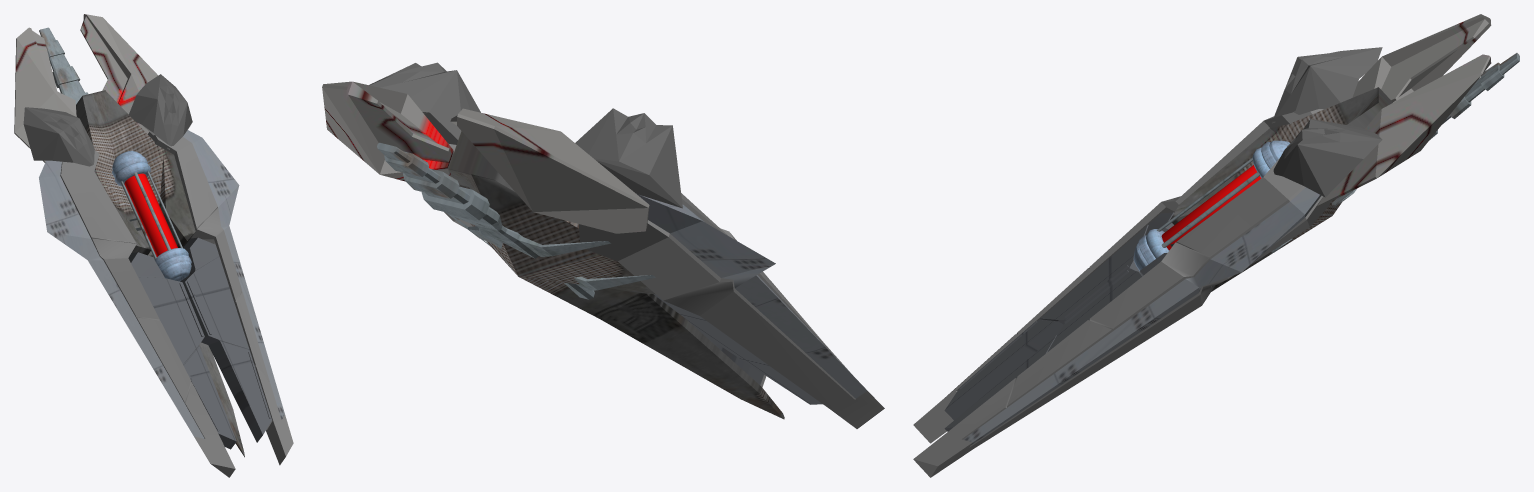
Rendered from wingopen.fbx.
3 views of the same model, side by side, from view 1: azimuth 30°, elevation 25°; view 2: azimuth 150°, elevation 25°; view 3: azimuth 270°, elevation 25° (orthographic). The views are drawn at different scales.
Parts seen in each view (by area): view 1: polySurface3341; view 2: polySurface3341; view 3: polySurface3341.
Boxes of the visible parts, box(x1,y1,x2,y2) form: polySurface3341: box(14, 14, 293, 477); polySurface3341: box(322, 62, 884, 428); polySurface3341: box(913, 14, 1519, 477).
Bounding box in the file's own units: 3.97 × 6.03 × 7.77.
